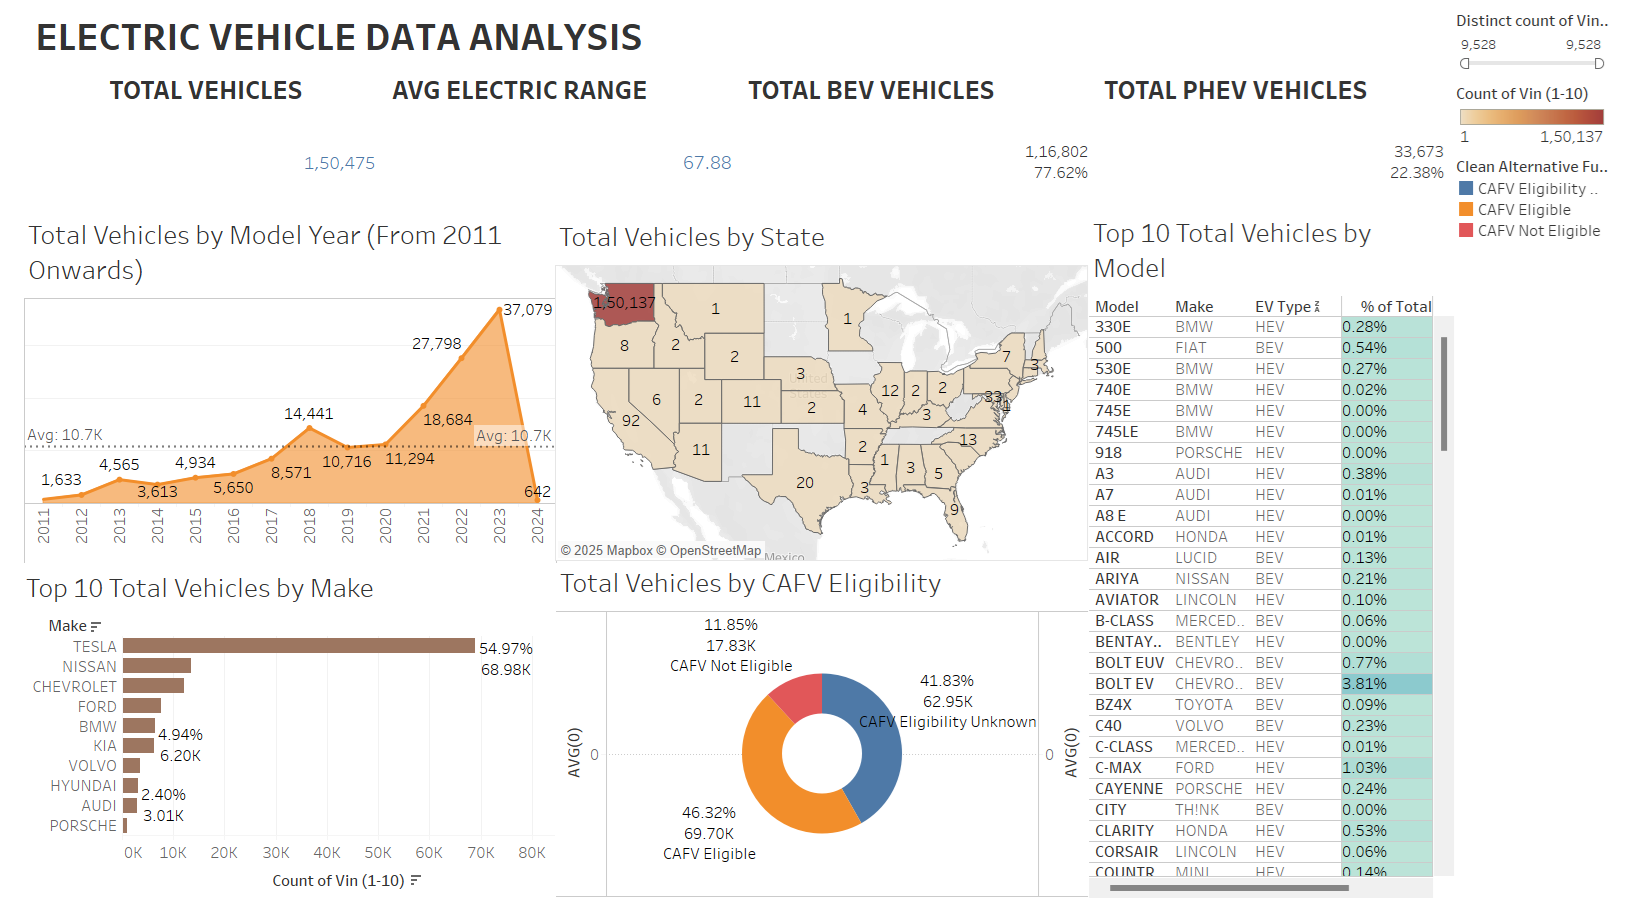

The page's visual inventory and layout, read from the dashboard file:
{"tool":"tableau","page":{"name":"Dashboard 1","canvas":[1600,900],"ordinal":0},"visuals":[{"type":"title","box":[8,8,1424,58]},{"type":"filter","title":"Total Vehicles","param":"[federated.0um1qrq136u7sk0zs021k1pwf8cw].[ctd:VIN (1-10):qk]","box":[1432,8,160,73]},{"type":"worksheet","title":"Total Vehicles","mark":"Automatic","box":[8,66,356,148]},{"type":"worksheet","title":"Average Electric Range","mark":"Automatic","box":[364,66,356,148]},{"type":"worksheet","title":"Total BEV Vehicles and % of Total BEV Vehicles","mark":"Automatic","box":[720,66,356,148]},{"type":"worksheet","title":"Total PHEV Vehicles and % of Total PHEV Vehicles","mark":"Automatic","box":[1076,66,356,148]},{"type":"legend","title":"Total Vehicles by State","param":"[federated.0um1qrq136u7sk0zs021k1pwf8cw].[cnt:VIN (1-10):qk]","box":[1432,81,160,73]},{"type":"legend","title":"Total Vehicles by CAFV Eligibility","param":"[federated.0um1qrq136u7sk0zs021k1pwf8cw].[none:Clean Alternative Fuel Vehicle (C","box":[1432,154,160,93]},{"type":"worksheet","title":"Top 10 Total Vehicles by Model","mark":"Square","rows":["Model","Make","Calculation_1638747364820455424"],"box":[1069,213,365,687]},{"type":"worksheet","title":"Total Vehicles by Model Year (From 2011 Onwards)","mark":"Area","rows":["VIN (1-10)","VIN (1-10)"],"cols":["Model Year"],"box":[4,215,533,351]},{"type":"worksheet","title":"Total Vehicles by State","mark":"Multipolygon","box":[535,217,533,346]},{"type":"worksheet","title":"Total Vehicles by CAFV Eligibility","mark":"Pie","rows":["Calculation_1638747364980207643","Calculation_1638747364980207643"],"box":[536,563,533,336]},{"type":"worksheet","title":"Top 10 Total Vehicles by Make","mark":"Automatic","rows":["Make"],"cols":["VIN (1-10)"],"box":[2,568,533,332]}]}

Visuals, with their boxes in screenshot pixels (x1, y1, x2, y2), scaled from the page's 1600x900 canvas onto the 1626x906 screenshot:
title: [8, 8, 1455, 66]
"Total Vehicles" filter: [1455, 8, 1618, 82]
"Total Vehicles" worksheet: [8, 66, 370, 215]
"Average Electric Range" worksheet: [370, 66, 732, 215]
"Total BEV Vehicles and % of Total BEV Vehicles" worksheet: [732, 66, 1093, 215]
"Total PHEV Vehicles and % of Total PHEV Vehicles" worksheet: [1093, 66, 1455, 215]
"Total Vehicles by State" legend: [1455, 82, 1618, 155]
"Total Vehicles by CAFV Eligibility" legend: [1455, 155, 1618, 249]
"Top 10 Total Vehicles by Model" worksheet (Square marks): [1086, 214, 1457, 905]
"Total Vehicles by Model Year (From 2011 Onwards)" worksheet (Area marks): [4, 216, 546, 570]
"Total Vehicles by State" worksheet (Multipolygon marks): [544, 218, 1085, 567]
"Total Vehicles by CAFV Eligibility" worksheet (Pie marks): [545, 567, 1086, 905]
"Top 10 Total Vehicles by Make" worksheet: [2, 572, 544, 905]
